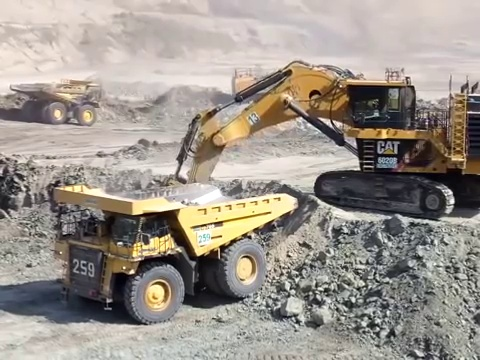dumper: (54, 184, 298, 325), (9, 80, 104, 126)
excavator: (173, 59, 479, 219)
